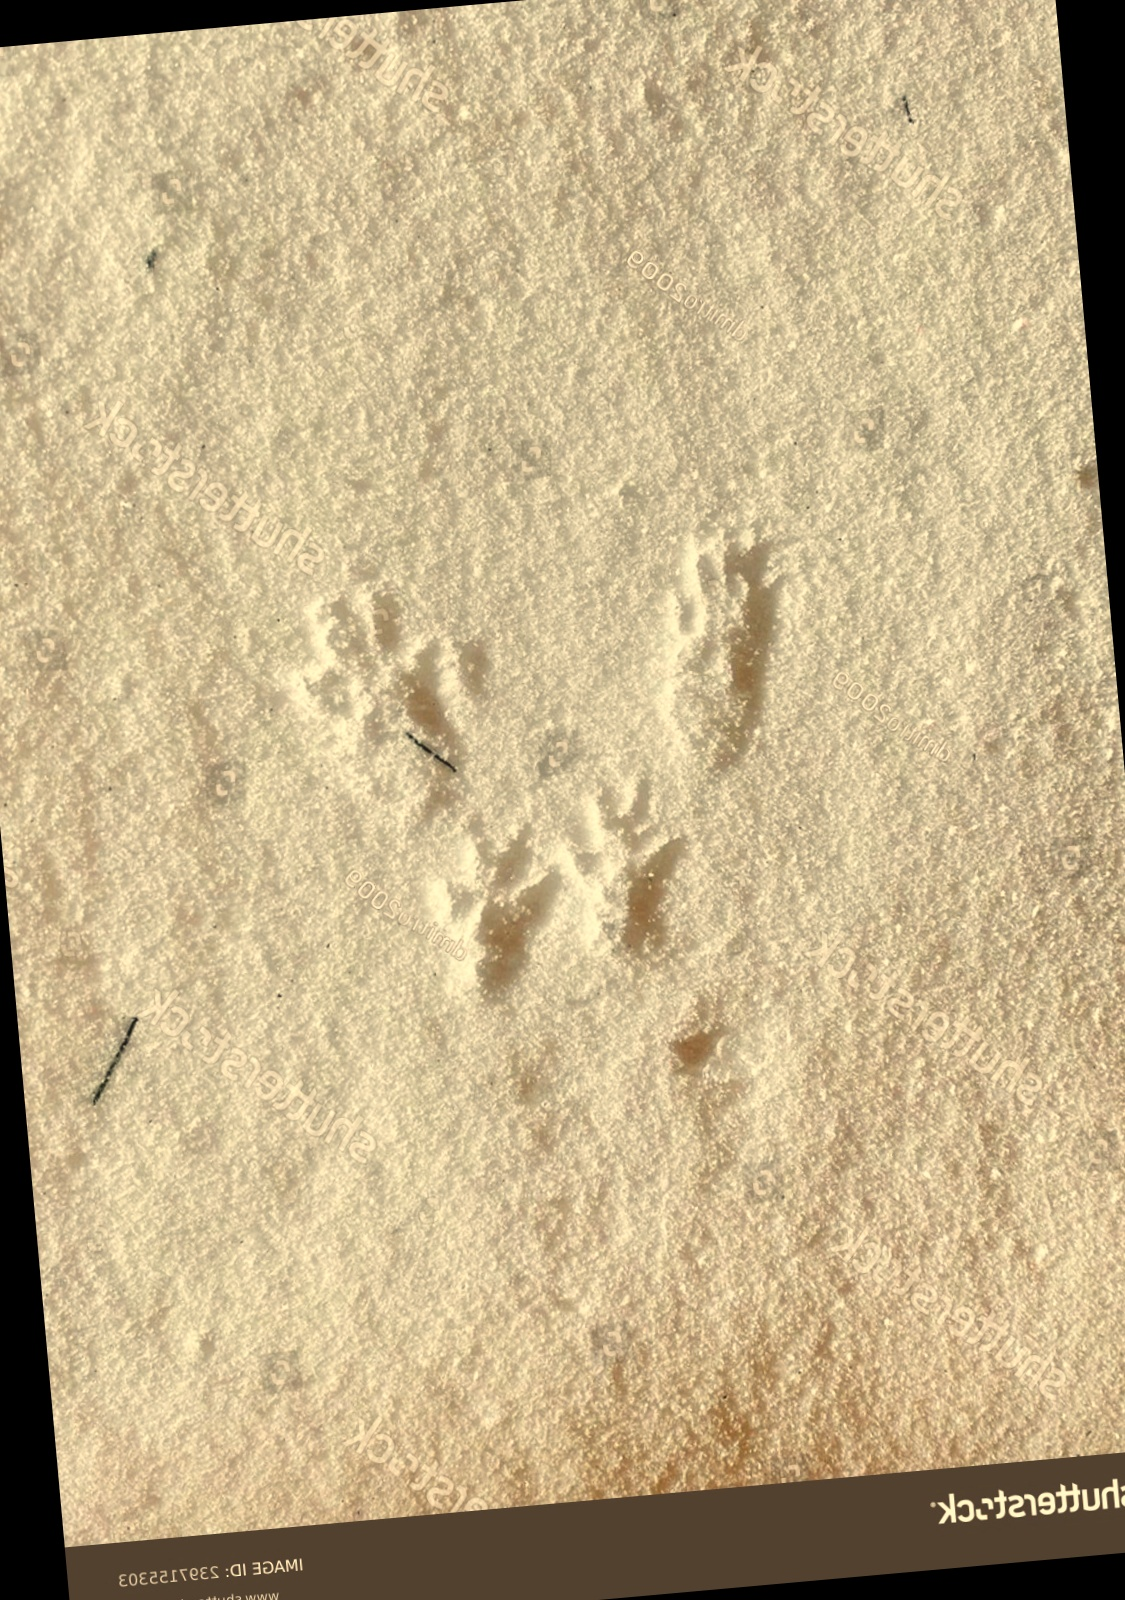ecureuil: (619, 531, 818, 790), (296, 526, 452, 802), (562, 790, 728, 1019), (438, 777, 562, 994)
